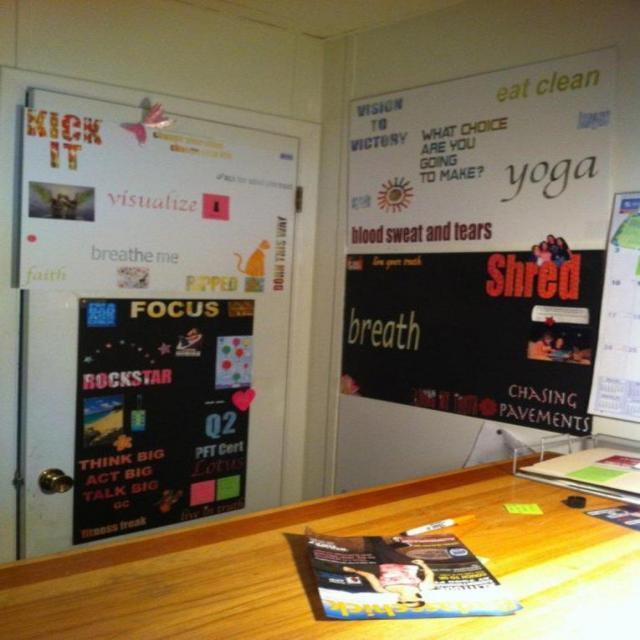table: (0, 446, 639, 639)
